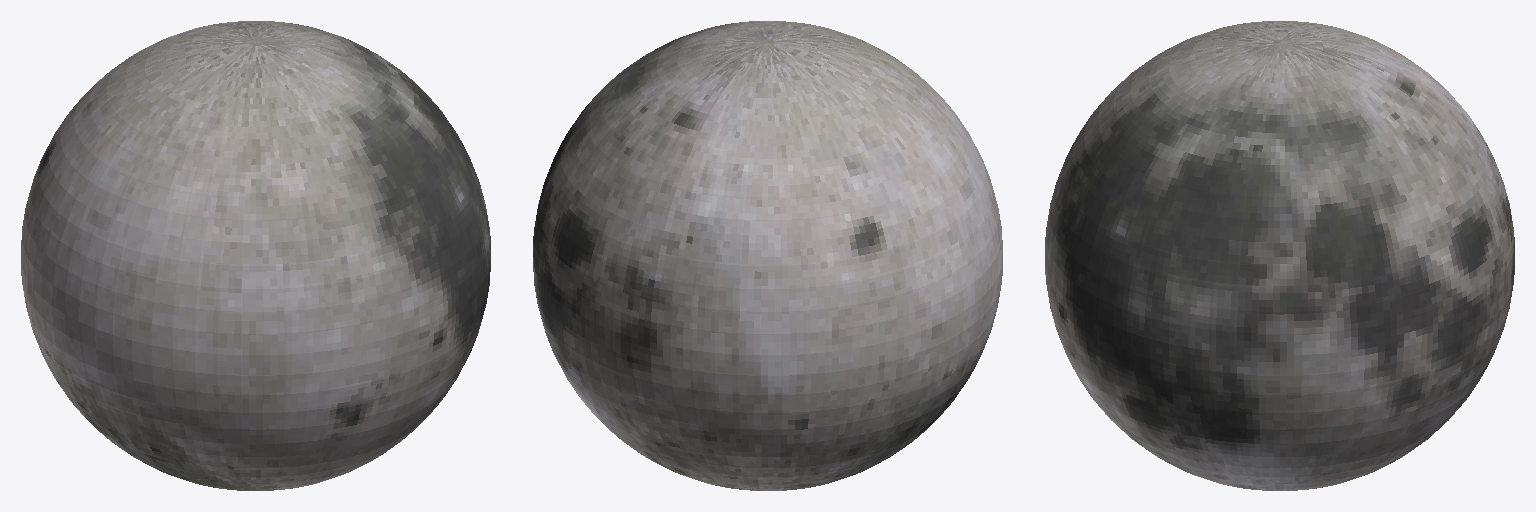
3 views of the same model, side by side, from view 1: azimuth 30°, elevation 25°; view 2: azimuth 150°, elevation 25°; view 3: azimuth 270°, elevation 25° (orthographic).
Visible parts, largest first — view 1: Sphere; view 2: Sphere; view 3: Sphere.
Part boxes in pixels (x1,y1,x2,y2): Sphere: (21,21,490,490); Sphere: (533,21,1002,490); Sphere: (1045,21,1514,490).
Bounding box in the file's own units: 2 × 2 × 2.
Materials: 1 (1 with a texture image).